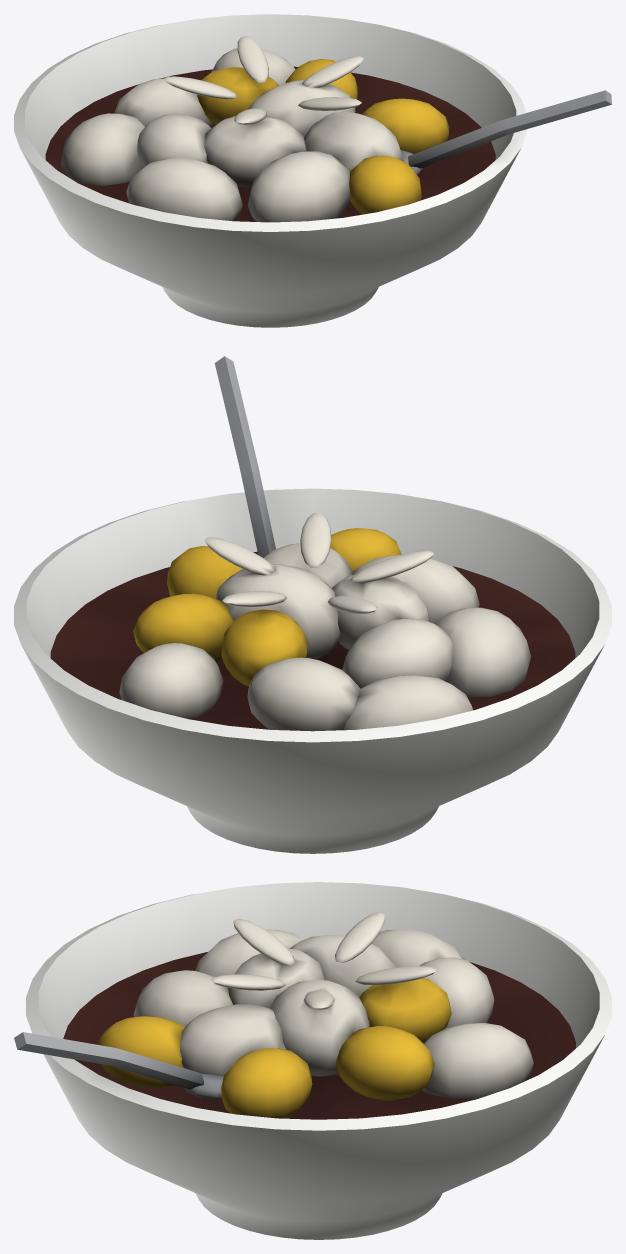
File: meal_stew.glb
3 views of the same model, one above another, from view 1: azimuth 30°, elevation 25°; view 2: azimuth 150°, elevation 25°; view 3: azimuth 270°, elevation 25° (orthographic). The views are drawn at different scales.
Visible parts, largest first — view 1: PART; view 2: PART; view 3: PART.
Part boxes in pixels (bbox=[...]): PART: bbox=[14, 14, 611, 327]; PART: bbox=[14, 356, 611, 853]; PART: bbox=[14, 882, 611, 1239].
Size of the model in its own units: 0.2482 by 0.1259 by 0.2526.
